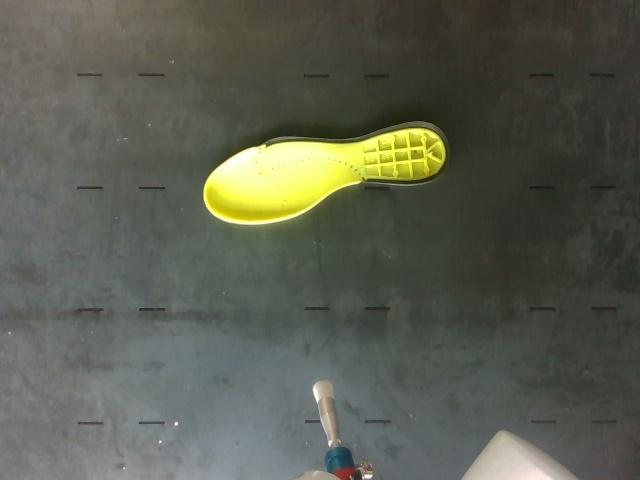shoes: (204, 126, 447, 224)
